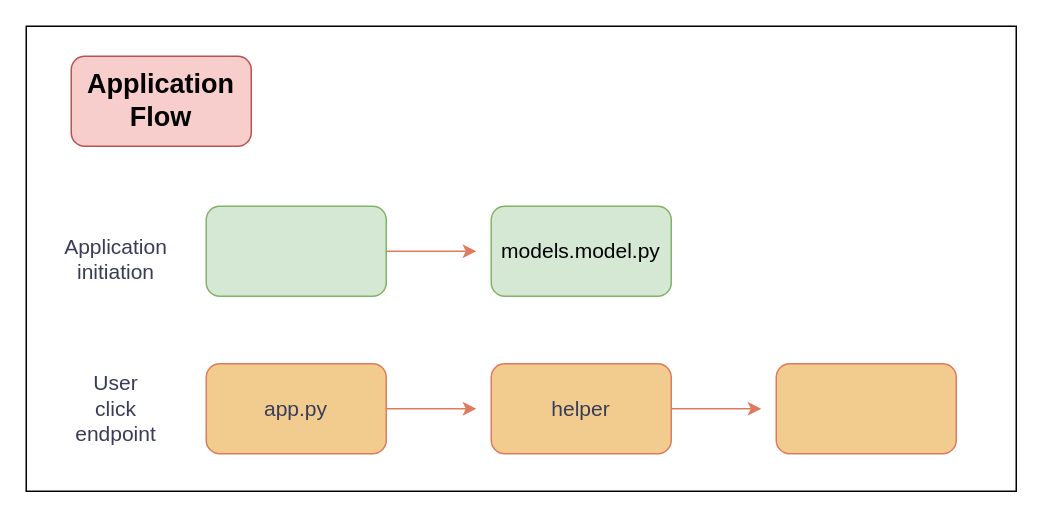
This 1043x518 diagram has some shape labels left out. Each missing label, with the centre of its shape:
config.extension.py: [295,250]
Postgresql database: [865,408]
